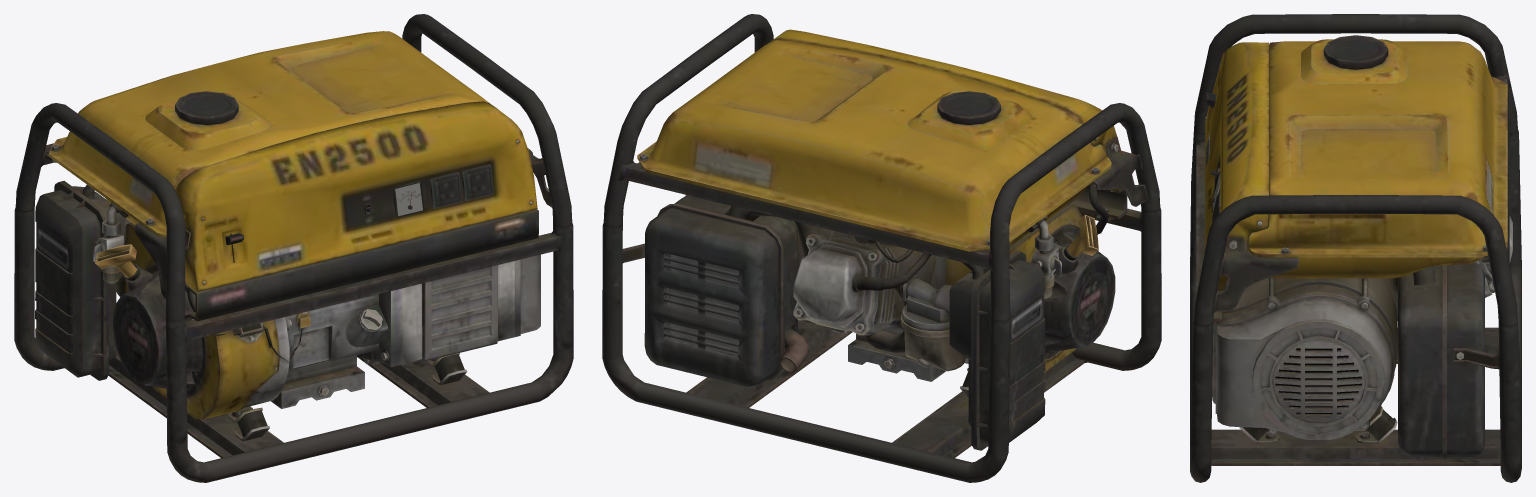
File: portable_generator_512.glb
3 views of the same model, side by side, from view 1: azimuth 30°, elevation 25°; view 2: azimuth 150°, elevation 25°; view 3: azimuth 270°, elevation 25° (orthographic).
Parts seen in each view (by area): view 1: portable_generator; view 2: portable_generator; view 3: portable_generator.
Part boxes in pixels (x1,y1,x2,y2): portable_generator: (14,14,573,482); portable_generator: (602,14,1161,482); portable_generator: (1190,14,1521,482).
Size of the model in its own units: 0.8169 by 0.5752 by 0.564.
Materials: 2 (2 with a texture image).
